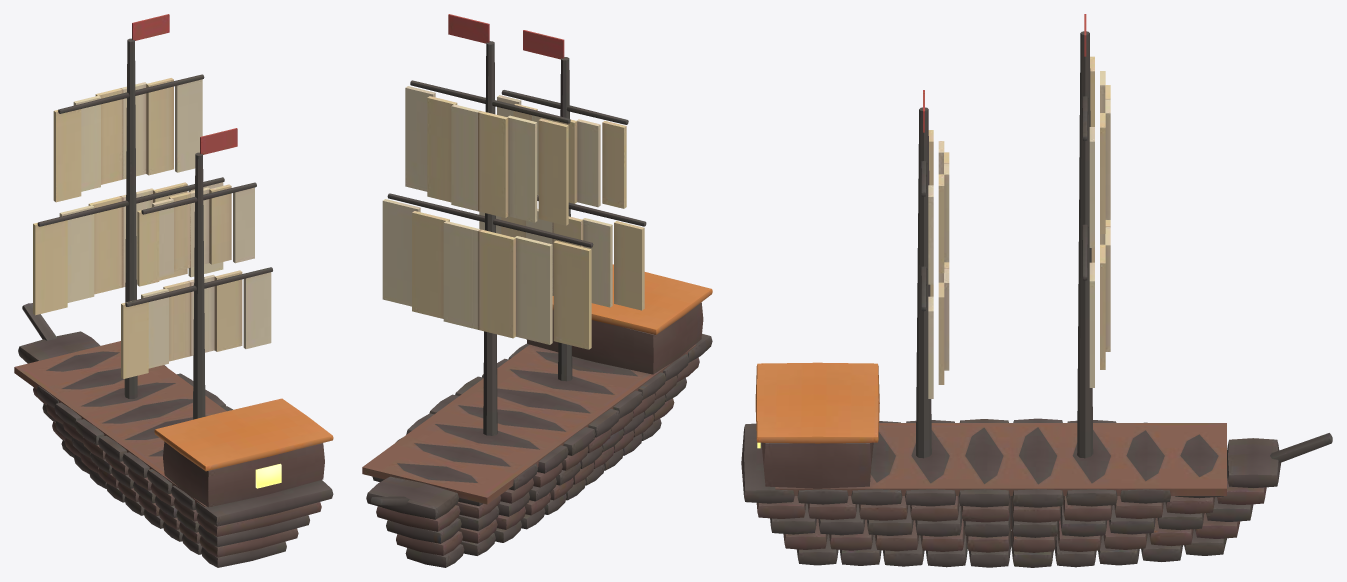
The model's file is sailboat.glb.
3 renders of one model, left to right at view 1: azimuth 30°, elevation 25°; view 2: azimuth 150°, elevation 25°; view 3: azimuth 270°, elevation 25°, orthographic. The views are drawn at different scales.
Visible parts, largest first — view 1: main, glow; view 2: main; view 3: main.
Boxes of the visible parts, bbox=[...] form: main: bbox=[14, 14, 333, 567]; glow: bbox=[255, 463, 281, 488]; main: bbox=[362, 14, 712, 567]; main: bbox=[741, 14, 1332, 567].
Size of the model in its own units: 7.65 by 17.55 by 17.6.
2 materials, 1 textured.
